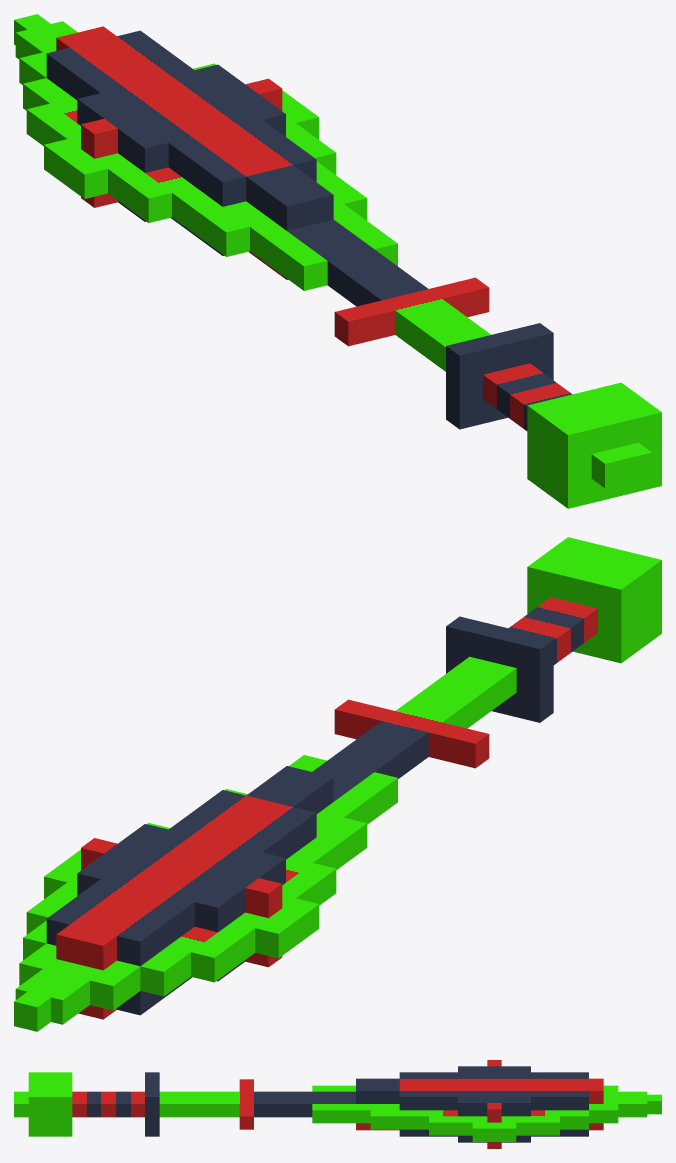
File: 62fddf2f-5bb9-40f4-8824-226dfe9ce39f.gltf
3 views of the same model, one above another, from view 1: azimuth 30°, elevation 25°; view 2: azimuth 150°, elevation 25°; view 3: azimuth 270°, elevation 25° (orthographic). The views are drawn at different scales.
Visible parts, largest first — view 1: blade-Local, Equip_Right_Hand-Local; view 2: blade-Local, Equip_Right_Hand-Local, Handle-Local; view 3: blade-Local, Equip_Right_Hand-Local, Handle-Local.
Part boxes in pixels (left/top/right/bottom): blade-Local: left=15, top=21, right=489, bottom=348; Equip_Right_Hand-Local: left=415, top=313, right=661, bottom=508; blade-Local: left=15, top=691, right=489, bottom=1024; Equip_Right_Hand-Local: left=416, top=537, right=661, bottom=727; Handle-Local: left=14, top=991, right=50, bottom=1031; blade-Local: left=218, top=1060, right=647, bottom=1148; Equip_Right_Hand-Local: left=14, top=1072, right=217, bottom=1136; Handle-Local: left=647, top=1094, right=661, bottom=1114.
Bounding box in the file's own units: 10 × 3 × 44.48.
3 materials, 3 textured.
